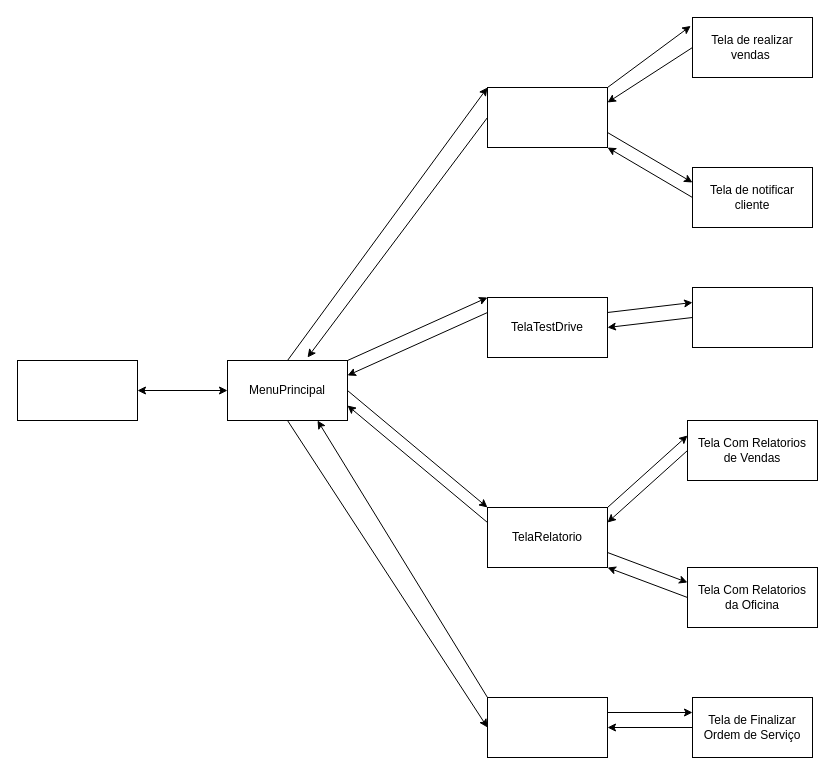
This 835x775 diagram has some shape labels left out. The shapes that lost their labels are listed below. From the top down, each one's centre as x and y in pixels, then its label:
At [547,117]: "TelaVenda".
At [752,317]: "Tela de Agendar TestDrive".
At [77,390]: "TELA DE LOGIN".
At [547,727]: "TelaOficina".
